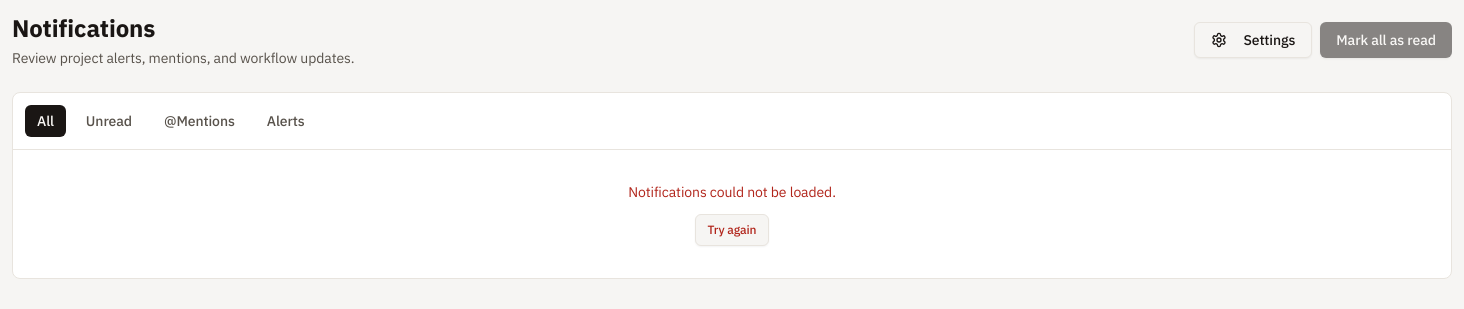
Test: NotificationsPage › shows a retry action after notifications fail to load
Check: the message shows "Notifications could not be loaded.", box [628,183,836,201]
What coordinates should you click on to do the following:
click the button "Try again"
I would click on:
 (732, 230)
Its box is [694,214,770,246].
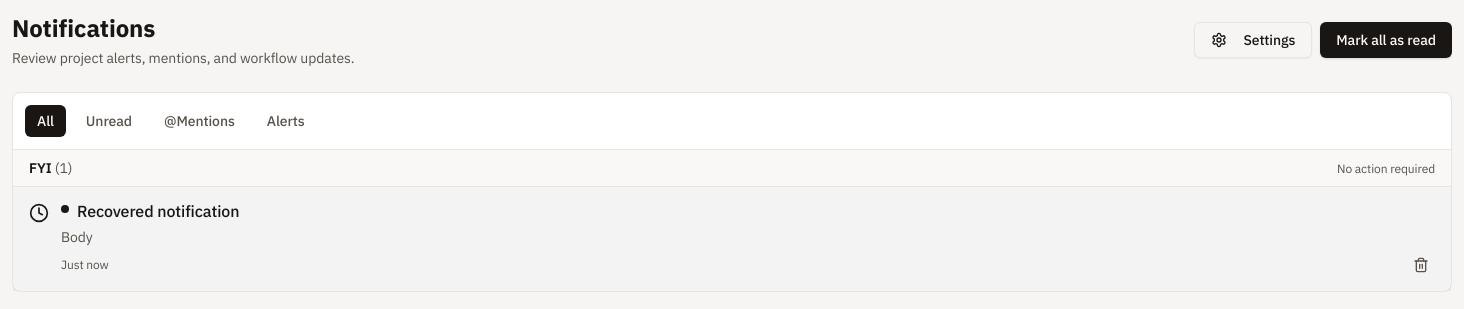
Check: the text "Recovered notification" is shown, box [77,201,239,221]
